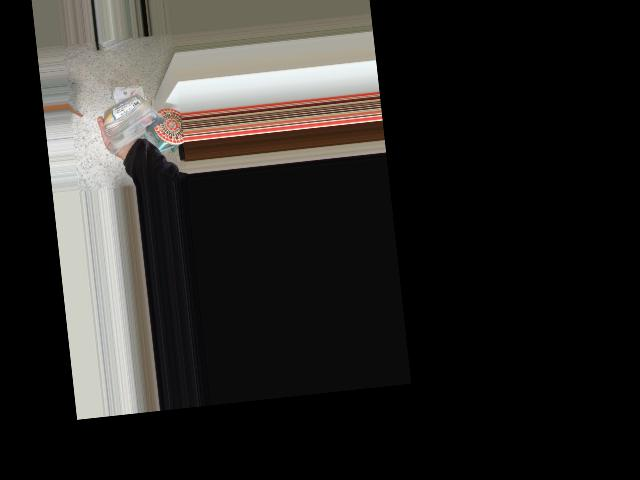cheese: (111, 78, 145, 144)
